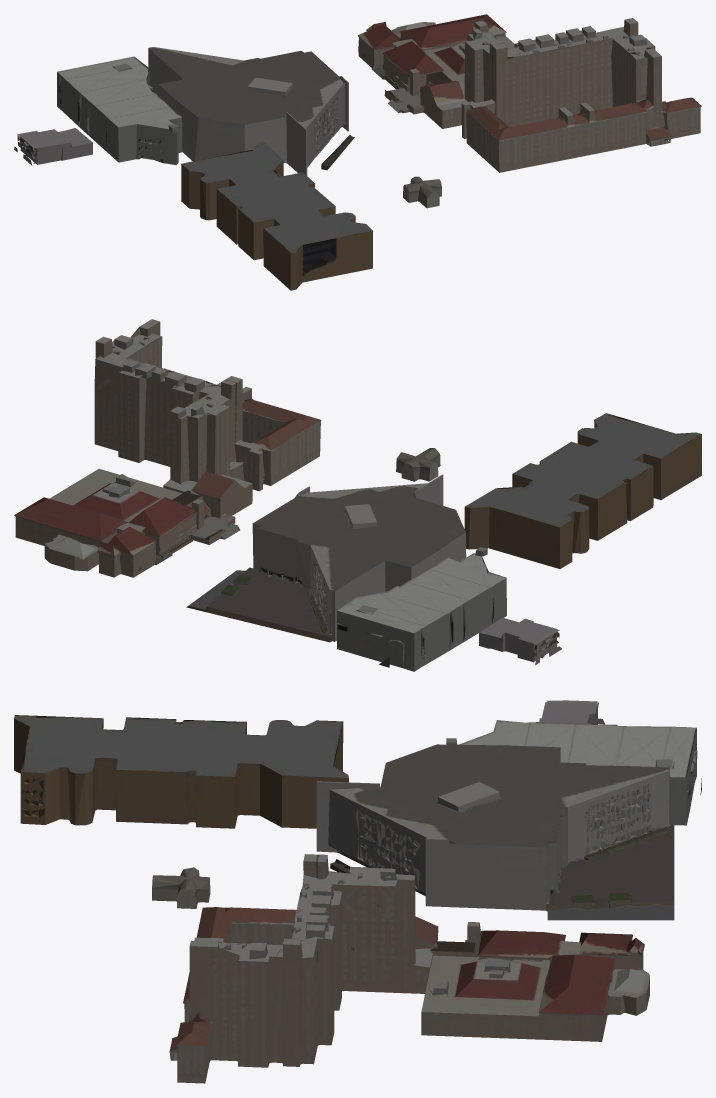
The model's file is t_0_1.coat.glb.
3 views of the same model, one above another, from view 1: azimuth 30°, elevation 25°; view 2: azimuth 150°, elevation 25°; view 3: azimuth 270°, elevation 25° (orthographic). The views are drawn at different scales.
Visible parts, largest first — view 1: far; view 2: far; view 3: far.
Boxes of the visible parts, bbox=[...] form: far: bbox=[14, 14, 701, 290]; far: bbox=[14, 319, 701, 671]; far: bbox=[14, 700, 701, 1083].
Bounding box in the file's own units: 329 × 52.26 × 265.
1 material, 1 textured.
